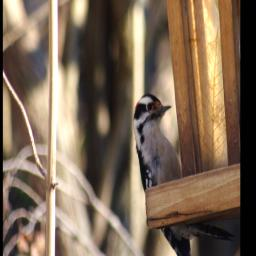Woodpecker: (133, 93, 235, 256)
